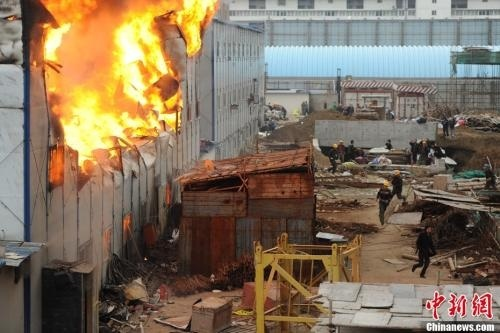fire: (36, 0, 218, 167)
